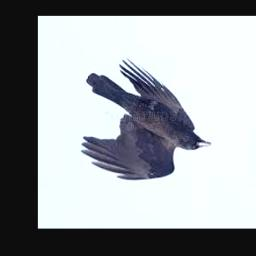Crow: (81, 60, 212, 182)
